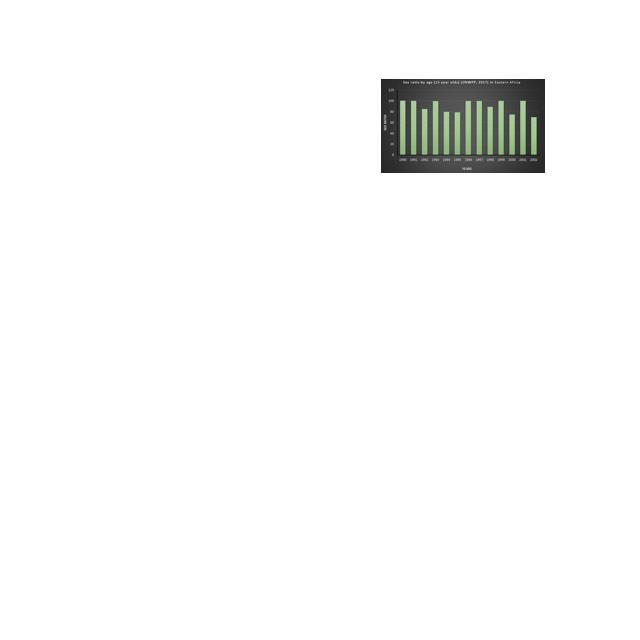Graph: (381, 79, 545, 173)
